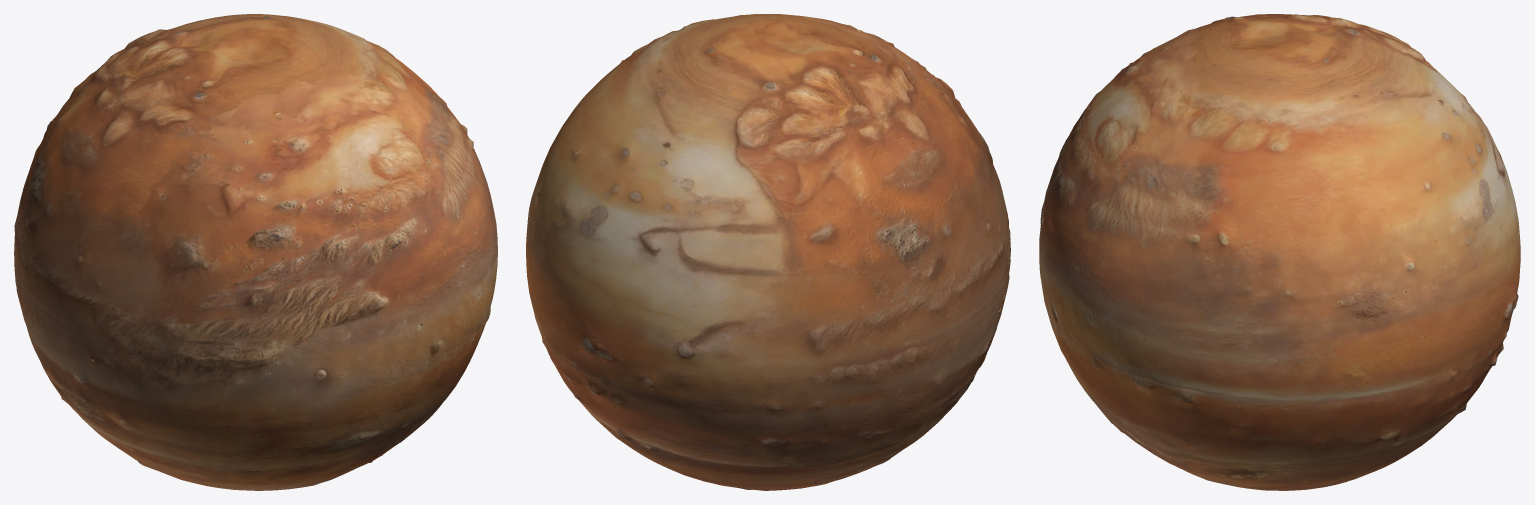
Rendered from dry_planet_6.glb.
3 renders of one model, left to right at view 1: azimuth 30°, elevation 25°; view 2: azimuth 150°, elevation 25°; view 3: azimuth 270°, elevation 25°, orthographic.
Visible parts, largest first — view 1: Mesh_0.019; view 2: Mesh_0.019; view 3: Mesh_0.019.
Part boxes in pixels (bbox=[...]): Mesh_0.019: bbox=[14, 14, 497, 490]; Mesh_0.019: bbox=[526, 14, 1010, 490]; Mesh_0.019: bbox=[1039, 14, 1520, 490].
Size of the model in its own units: 1.99 by 1.97 by 1.99.
1 material, 1 textured.
